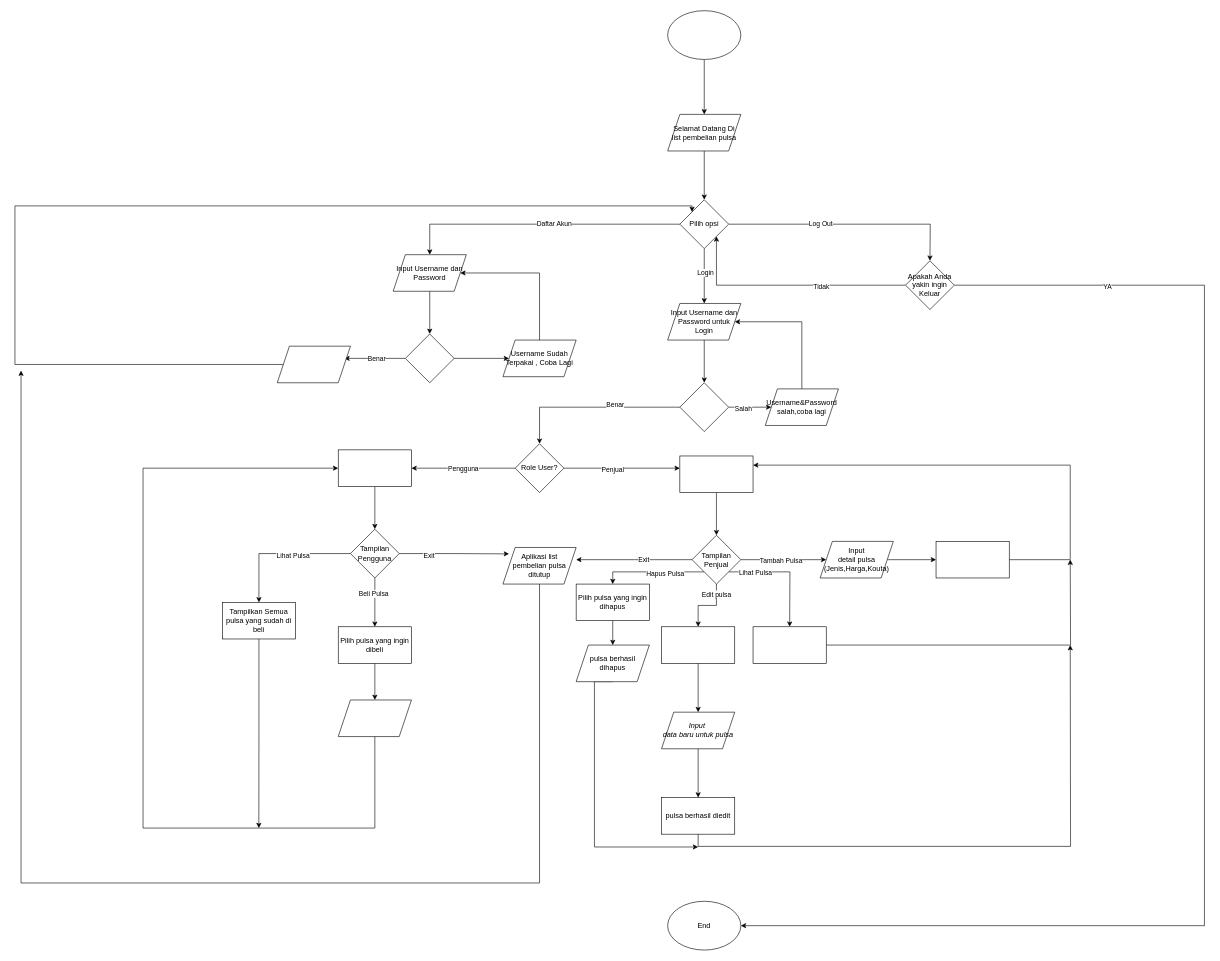
This 1220x961 diagram has some shape labels left out. The centre of each missing label's shape, as x and y in pixels:
"Akun Berhasil Dibuat" goes at (x=313, y=364).
"Pengguna Menu" goes at (x=374, y=467).
"Penjual Menu" goes at (x=716, y=474).
"Pilih Pulsa yang Ingin di edit" goes at (x=698, y=644).
"Pulsa berhasil Dibeli" goes at (x=374, y=718).
"Pulsa Berhasil Ditambahkan" goes at (x=972, y=559).
"Start" goes at (x=704, y=34).
"Tampilkan Semua Data Pulsa" goes at (x=789, y=644).
"Username & Password Benar?" goes at (x=704, y=407).
"Username Tersedia?" goes at (x=429, y=358).
